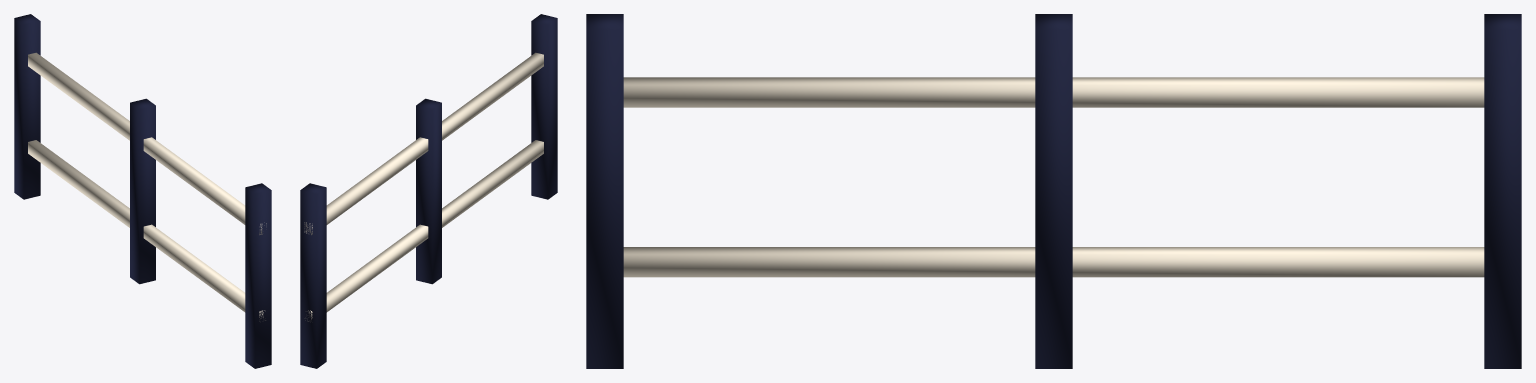
The model's file is fence.glb.
3 renders of one model, left to right at view 1: azimuth 30°, elevation 25°; view 2: azimuth 150°, elevation 25°; view 3: azimuth 270°, elevation 25°, orthographic. The views are drawn at different scales.
Visible parts, largest first — view 1: fence; view 2: fence; view 3: fence.
Boxes of the visible parts, bbox=[...] form: fence: bbox=[14, 14, 271, 368]; fence: bbox=[300, 14, 557, 368]; fence: bbox=[586, 14, 1521, 368].
Bounding box in the file's own units: 0.12 × 1.2 × 3.
